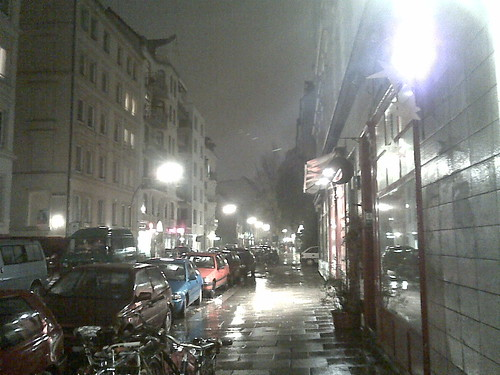building: (310, 1, 500, 375), (20, 1, 152, 232), (155, 53, 212, 256)
car: (41, 261, 175, 350)
